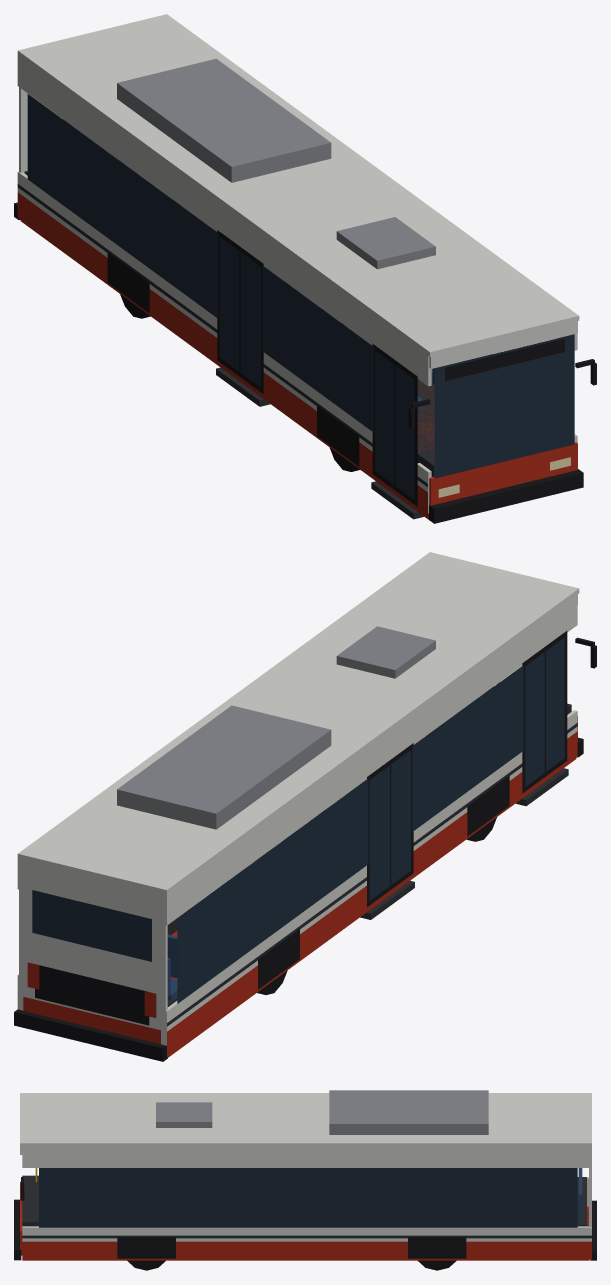
The model's file is vehicle_calgary-bus.b5331cbaa8d8.glb.
3 views of the same model, one above another, from view 1: azimuth 30°, elevation 25°; view 2: azimuth 150°, elevation 25°; view 3: azimuth 270°, elevation 25° (orthographic). The views are drawn at different scales.
Visible parts, largest first — view 1: body; view 2: body; view 3: body.
Part boxes in pixels (<box>): body: <box>14,14,596,523</box>; body: <box>14,552,596,1061</box>; body: <box>14,1090,596,1270</box>.
Size of the model in its own units: 3.17 by 3.29 by 12.44.
